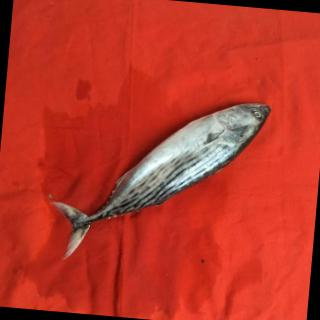Ikan: (45, 72, 279, 277)
